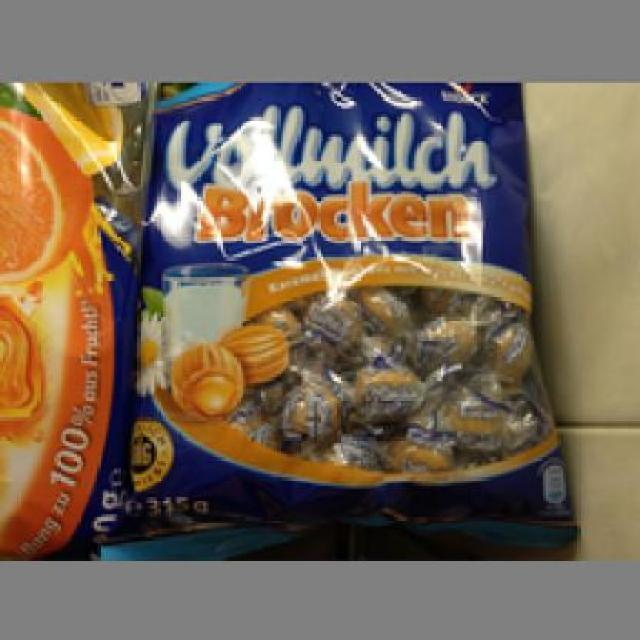Candy: (145, 80, 566, 549)
